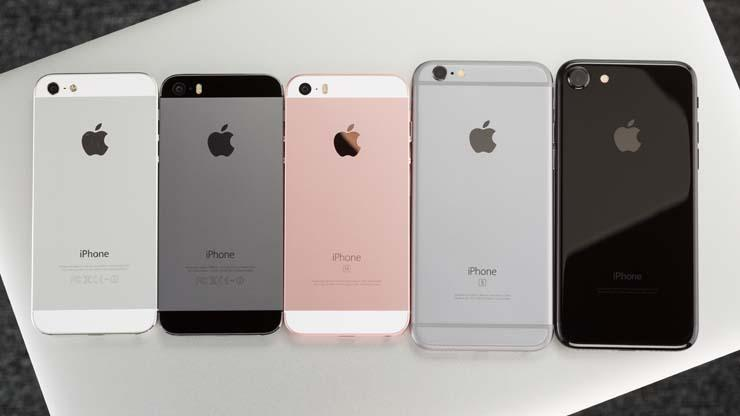apple: (204, 115, 260, 189), (312, 121, 387, 171), (457, 120, 528, 164), (73, 115, 124, 165), (609, 112, 652, 164)
